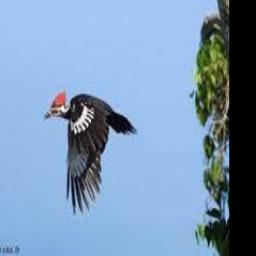Woodpecker: (44, 89, 138, 215)
